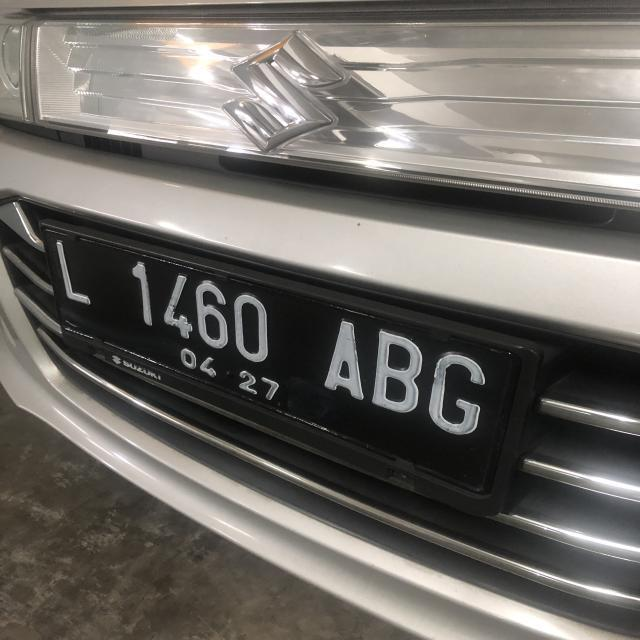0: (233, 290, 270, 363)
1: (126, 256, 158, 329)
4: (162, 270, 192, 338)
6: (192, 277, 230, 352)
A: (321, 319, 365, 402)
B: (372, 332, 423, 416)
G: (428, 356, 493, 439)
L: (53, 236, 94, 310)
